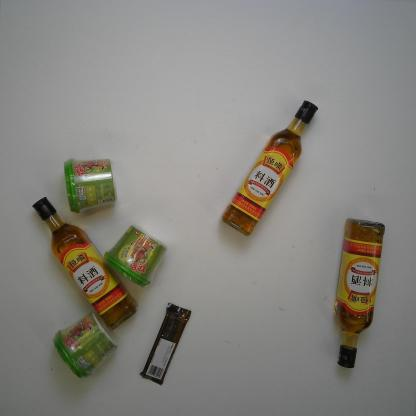Chocolate: (139, 300, 192, 388)
Instant Drink: (51, 310, 120, 380), (103, 223, 169, 290), (63, 157, 119, 216)
Seasoner: (31, 196, 139, 331), (220, 99, 319, 239), (333, 217, 386, 371)
